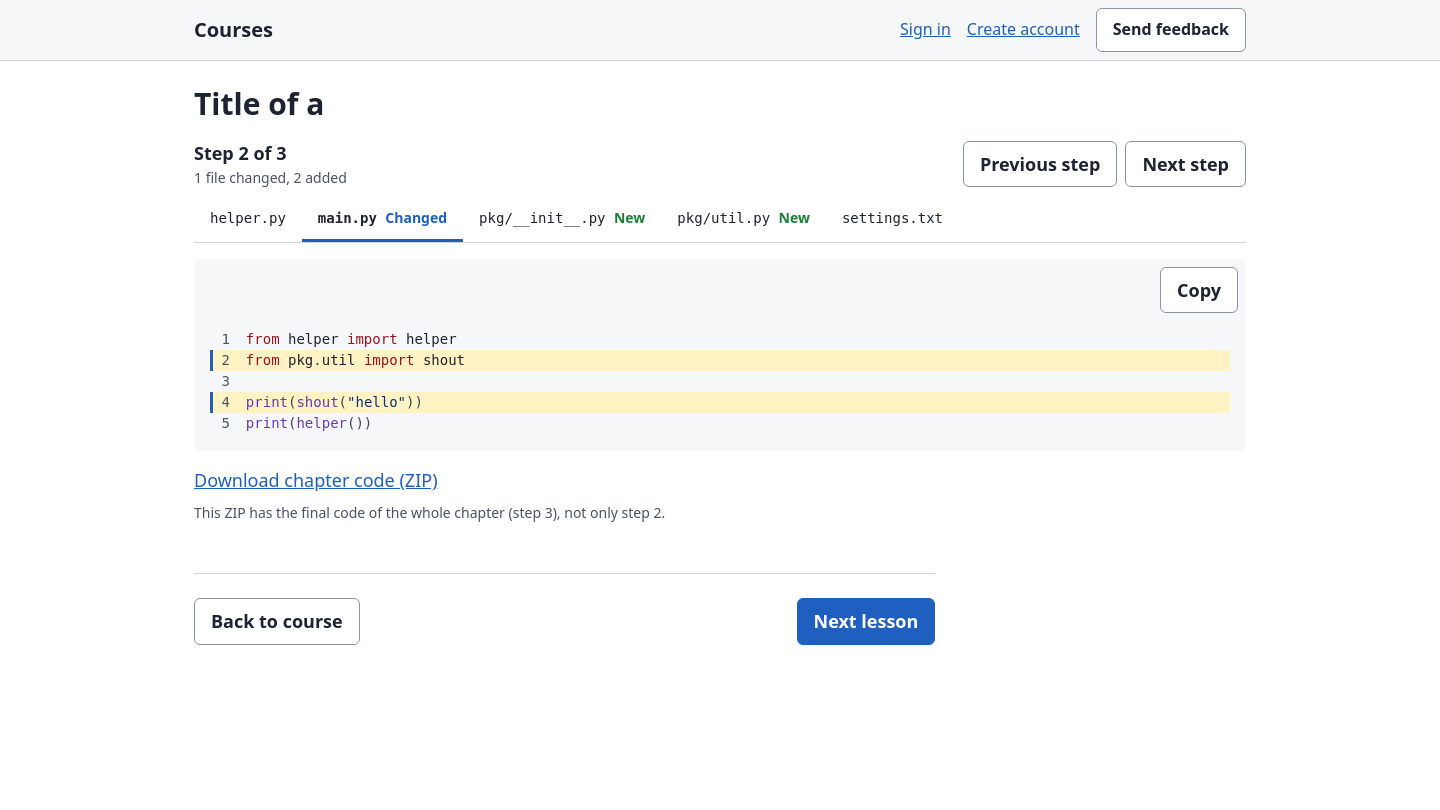
Scenario: code steps › asks for the code again when another lesson with a viewer is opened
Check: the element named "Files in step 2" is shown, box x1=194 y1=198 x2=1246 y2=243
What coordinates should you click on to do the following:
click the link "Next lesson"
I would click on:
 (866, 621)
Its box is x1=796 y1=598 x2=935 y2=645.
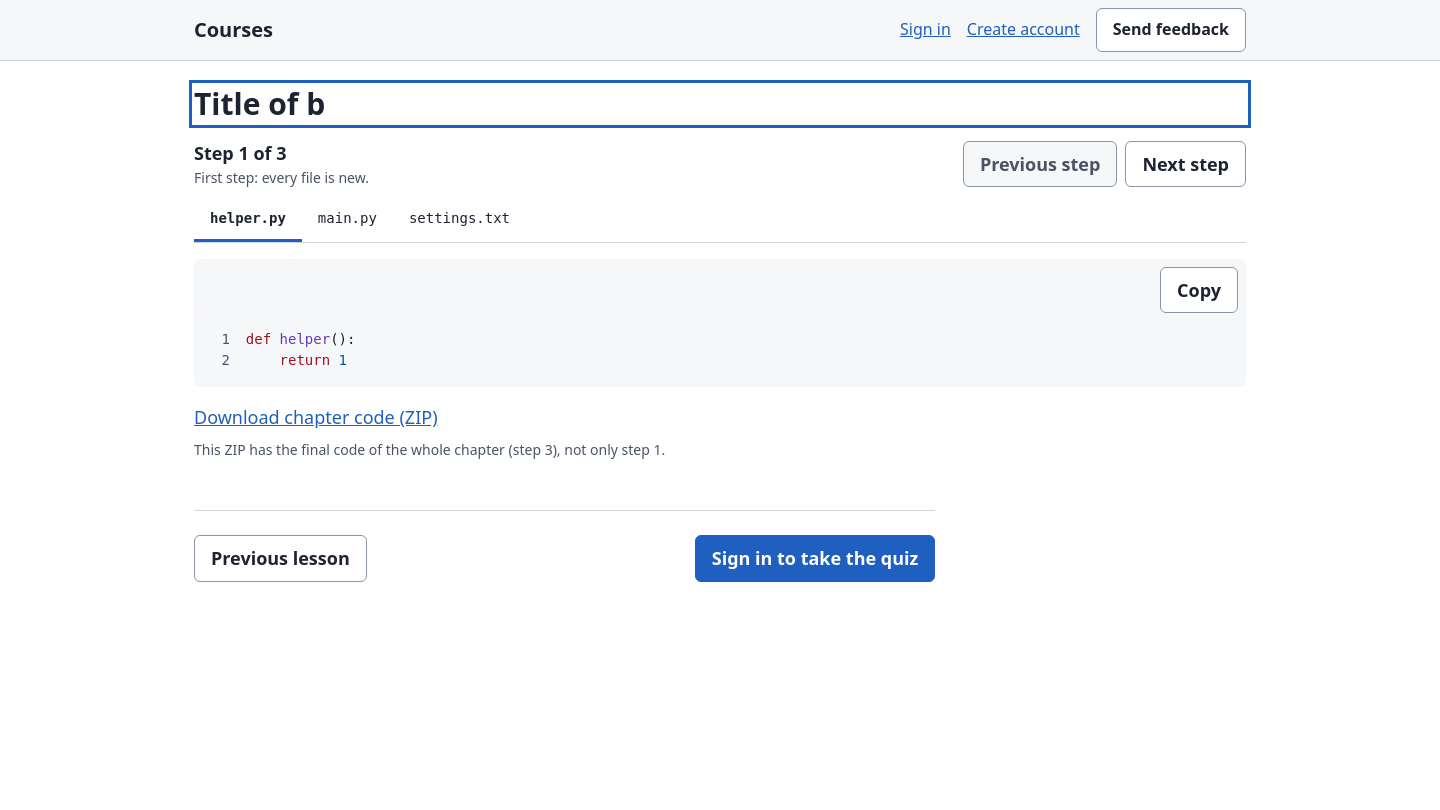
Check: the element named "Files in step 1" is shown, box x1=194 y1=198 x2=1246 y2=243
